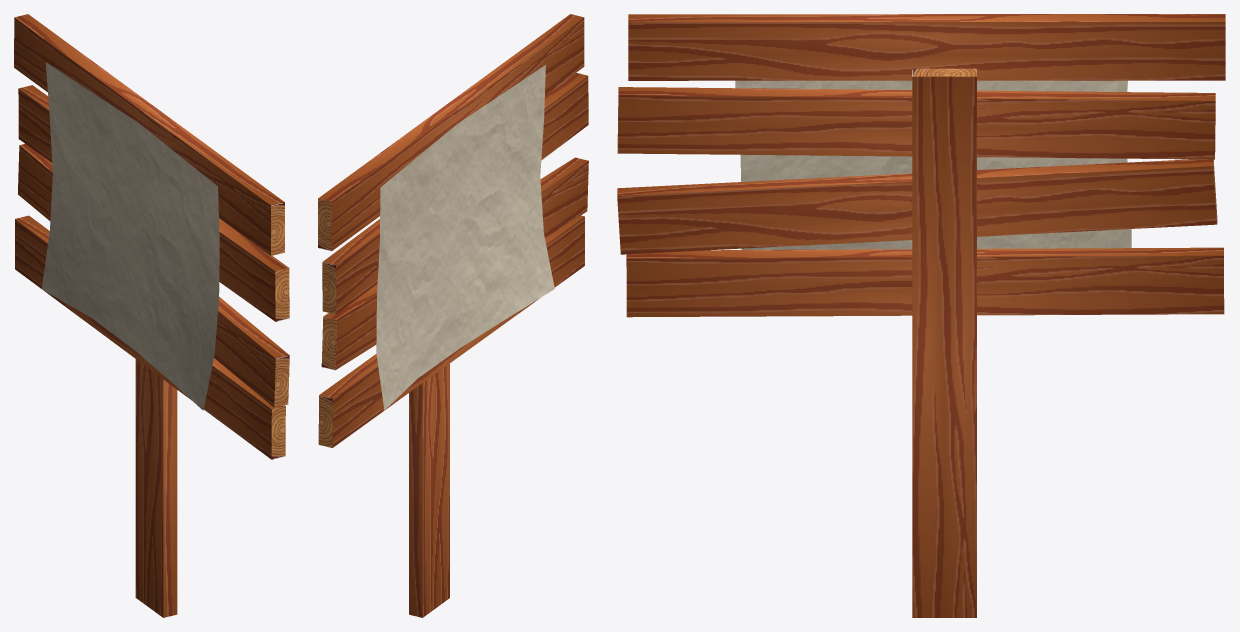
File: Sign01.fbx
3 renders of one model, left to right at view 1: azimuth 30°, elevation 25°; view 2: azimuth 150°, elevation 25°; view 3: azimuth 270°, elevation 25°, orthographic. The views are drawn at different scales.
Visible parts, largest first — view 1: Plane004, Box005, Box001, Box002, Box003, Box004; view 2: Plane004, Box005, Box001, Box002, Box004, Box003; view 3: Box005, Box004, Box003, Box002, Box001, Plane004.
Boxes of the visible parts, x1,y1,x2,y2 form: Plane004: (41, 62, 219, 410); Box005: (14, 14, 284, 255); Box001: (135, 359, 177, 617); Box002: (15, 215, 285, 459); Box003: (18, 144, 289, 407); Box004: (18, 85, 289, 321); Plane004: (376, 65, 554, 410); Box005: (318, 14, 584, 251); Box001: (409, 363, 449, 617); Box002: (318, 215, 584, 447); Box004: (322, 72, 588, 314); Box003: (321, 157, 588, 370); Box005: (628, 14, 1225, 80); Box004: (617, 87, 1215, 159); Box003: (617, 159, 1217, 254); Box002: (626, 247, 1224, 317); Box001: (912, 68, 976, 617); Plane004: (735, 80, 1131, 249).
Bounding box in the file's own units: 6.61 × 67.35 × 63.19.
